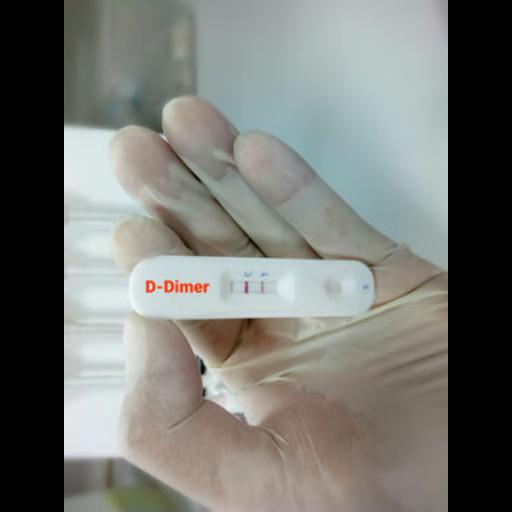Pos: (126, 254, 374, 318)
